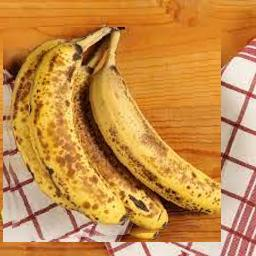Banana Semirotten: (3, 27, 221, 242)
